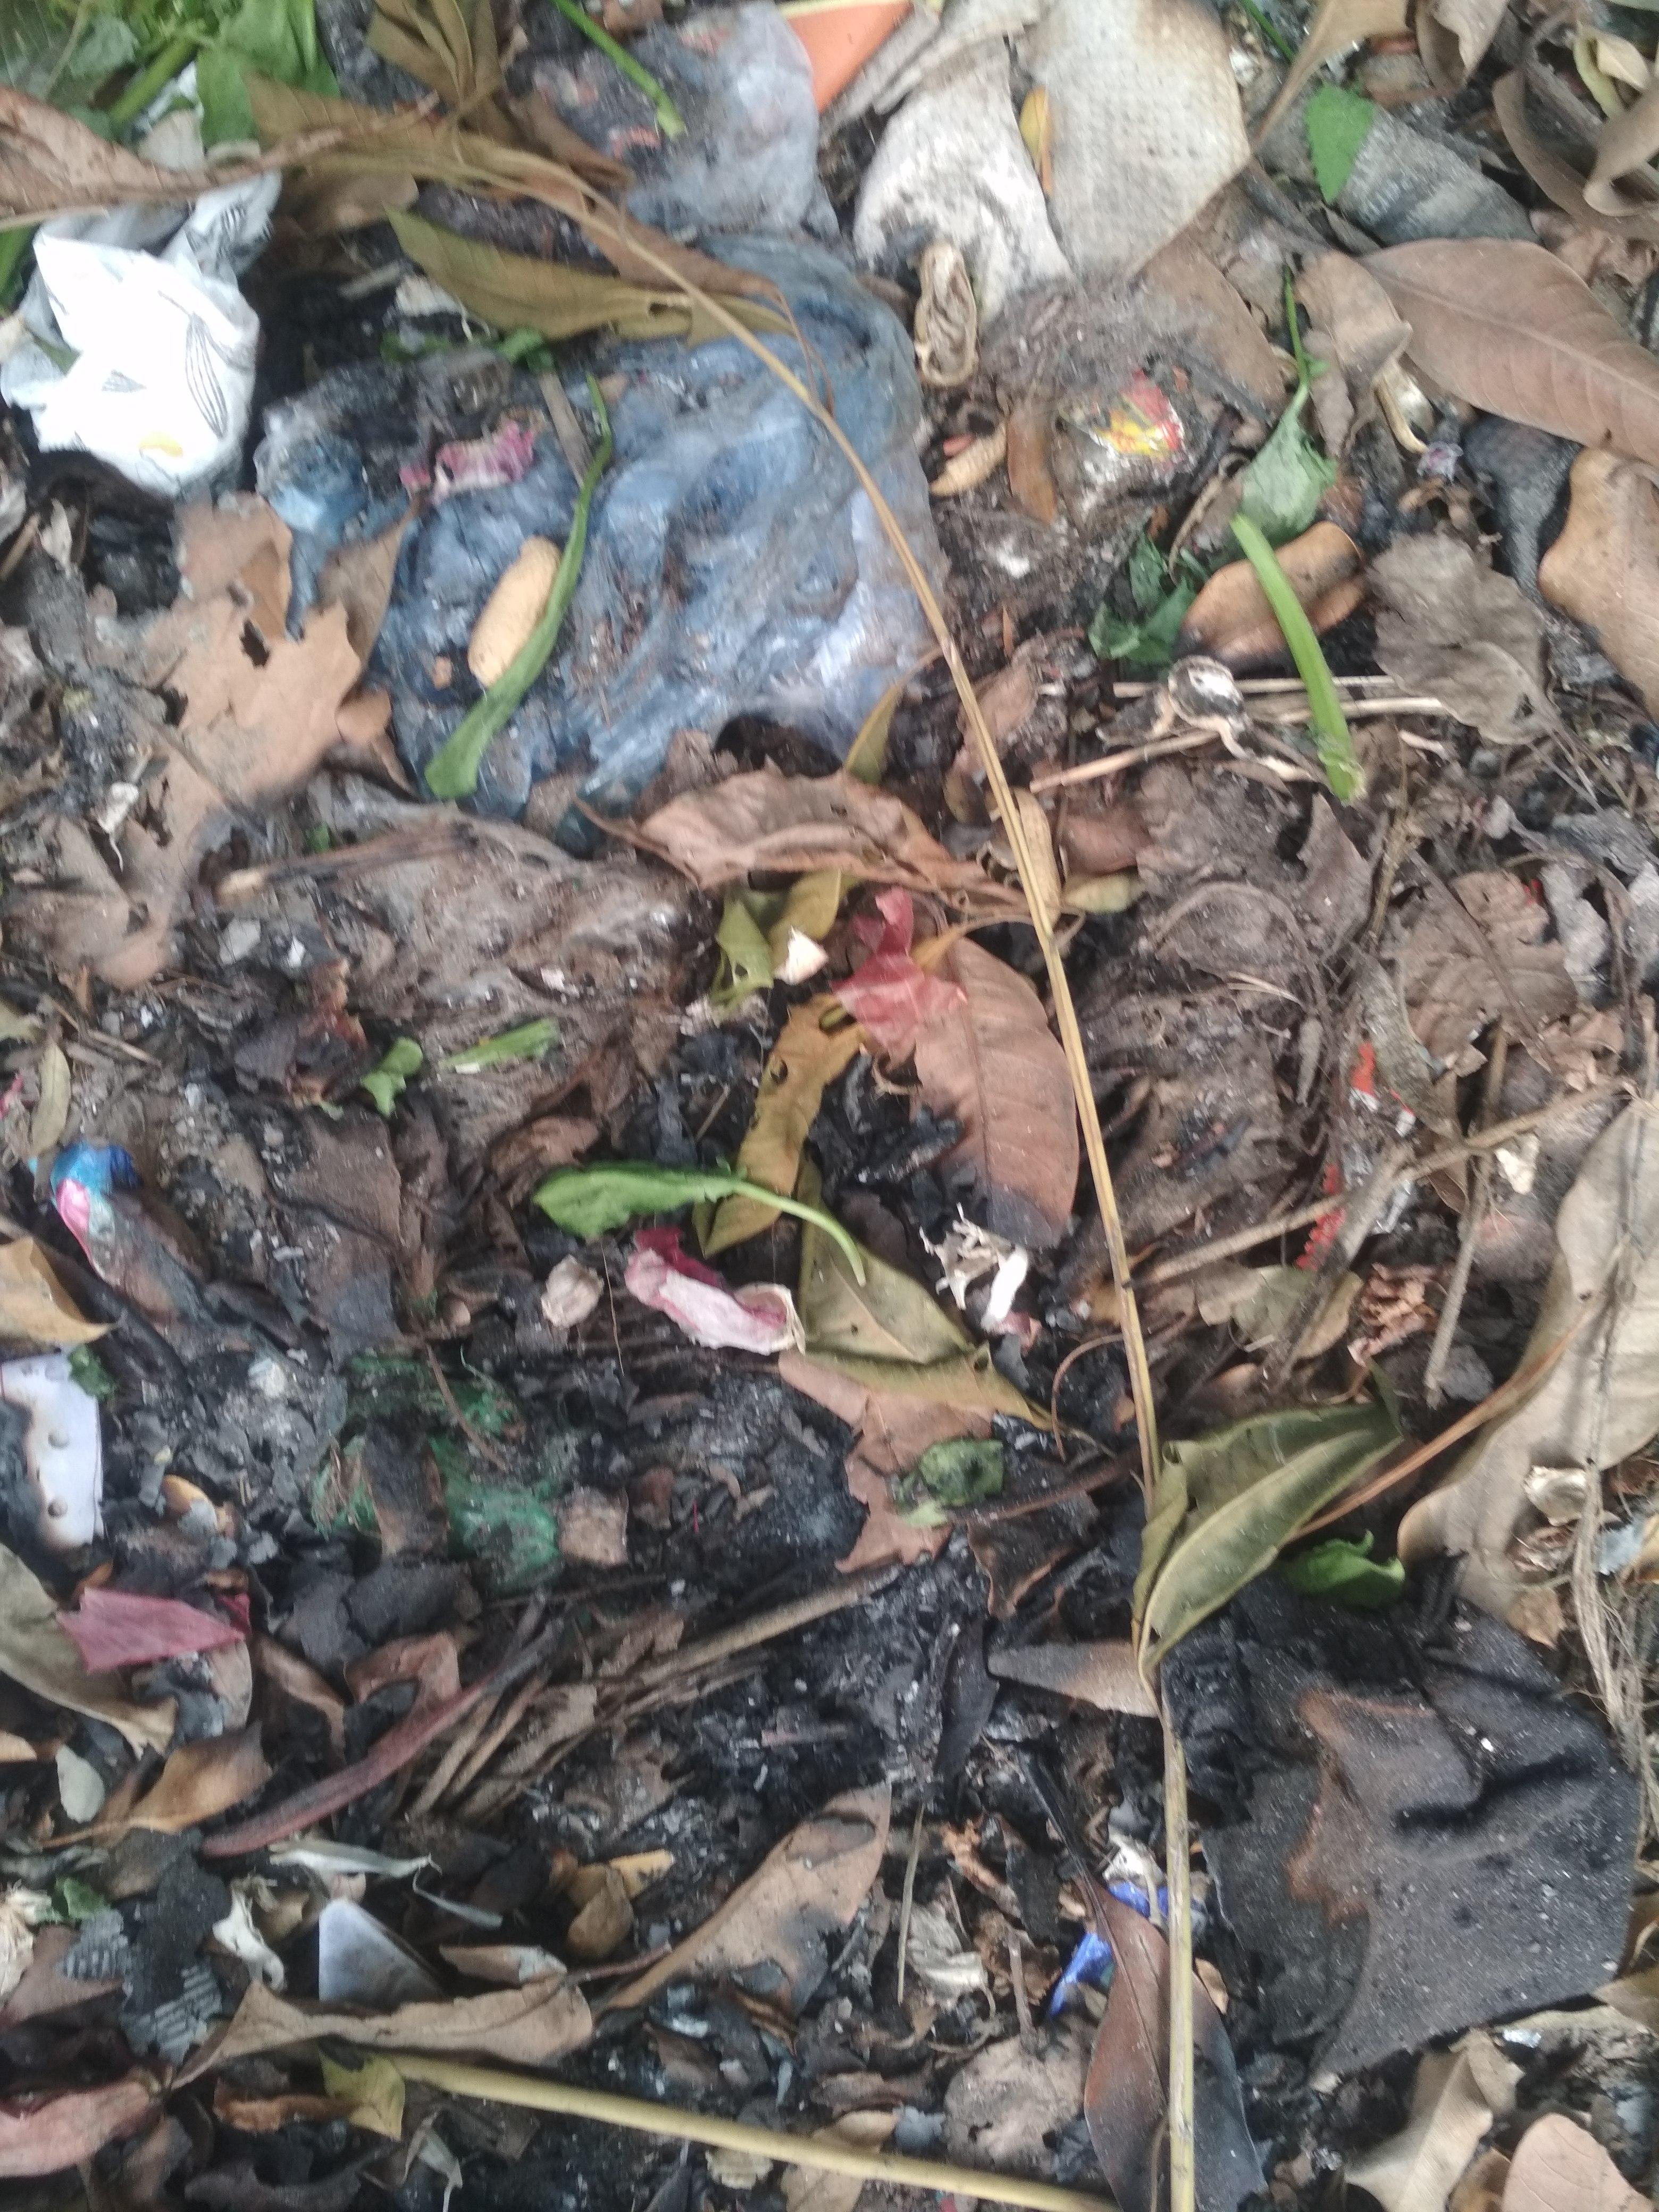trash: (0, 200, 1632, 2211)
